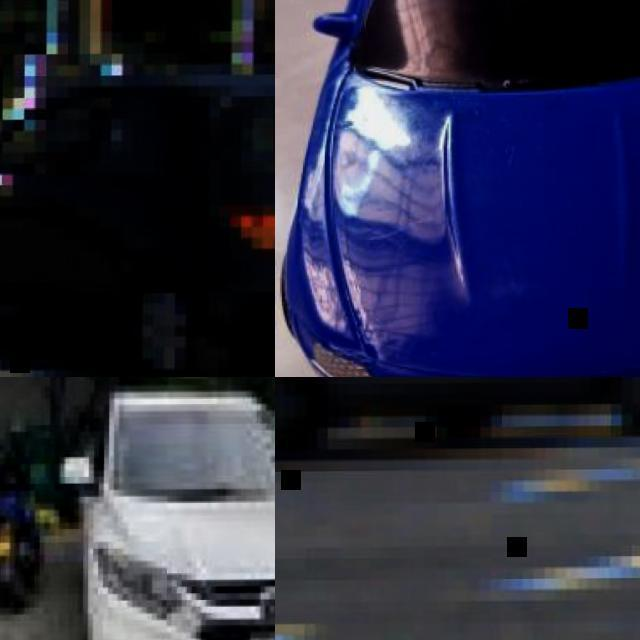car: (302, 0, 640, 359), (78, 384, 268, 639)
